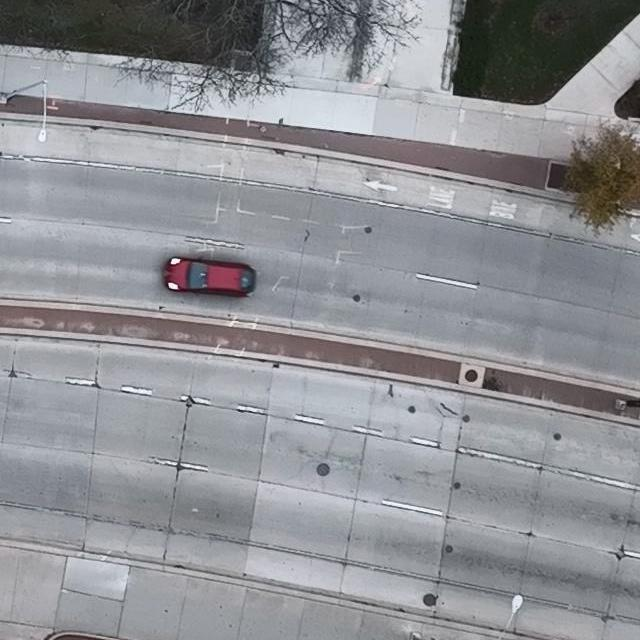car: (163, 256, 255, 296)
